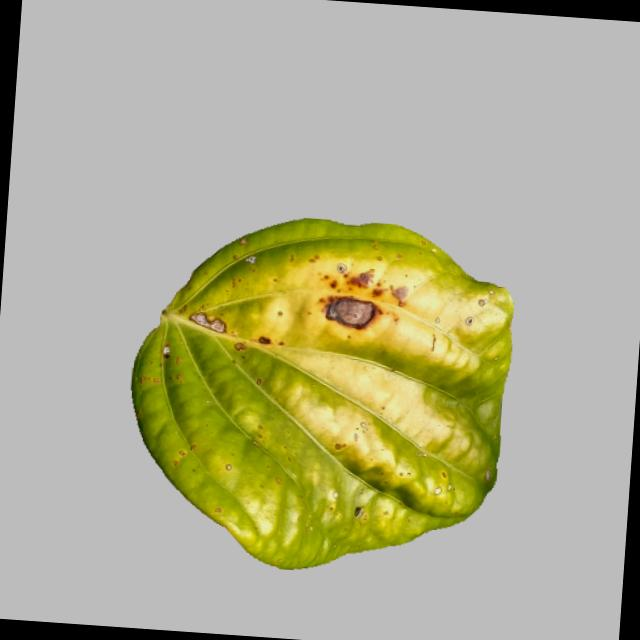leaf-blight: (115, 197, 532, 596)
